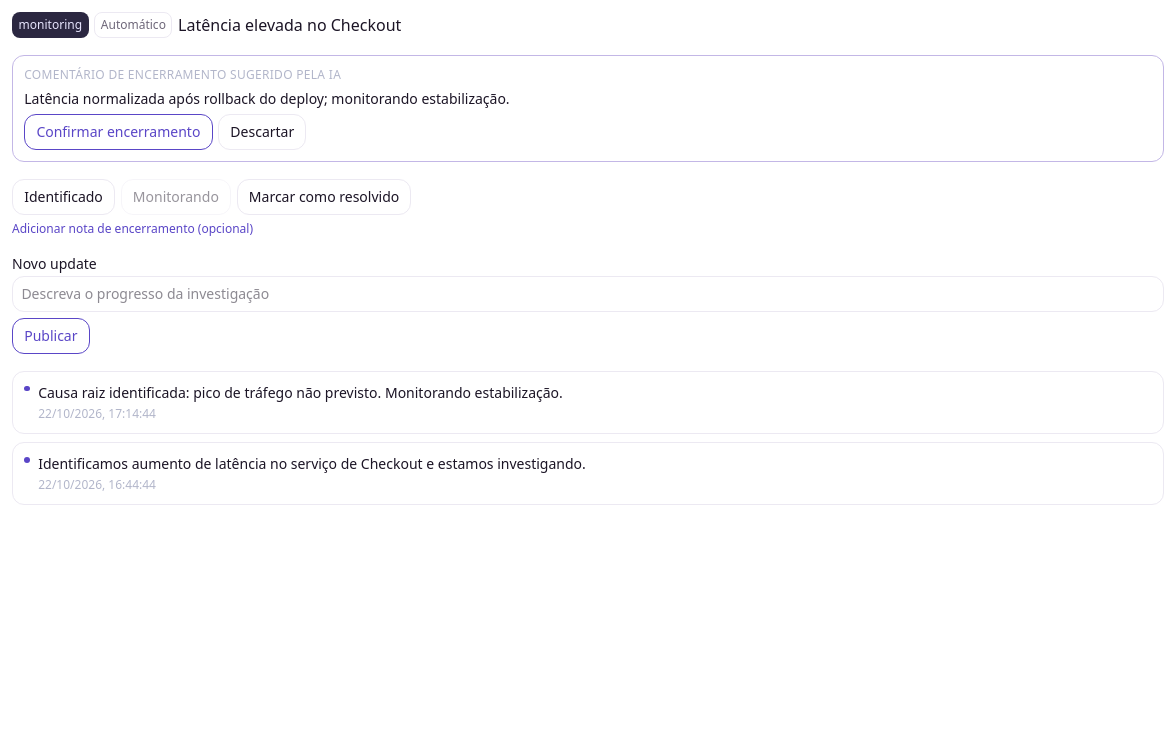
Test: IncidentDetail › resolving with an optional closing note publishes it on the timeline
This screenshot has width=1176, height=732.
Expected: the text "Identificamos aumento de latência" is shown, [38,454,586,474]
Click the button "Adicionar nota de encerramento (opcional)": (132, 229) [12,221,253,237]
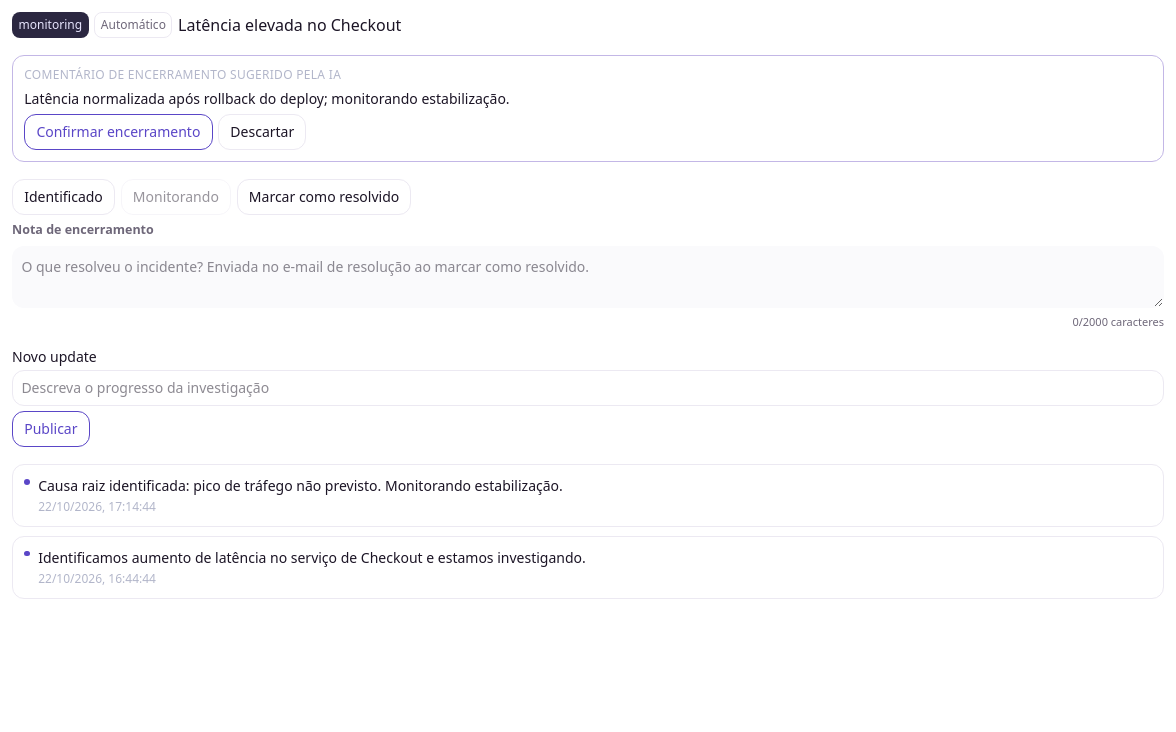
In the text box labelled "Nota de encerramento": (588, 276) [12,246,1164,308], type "Rollback concluído, latência normal"
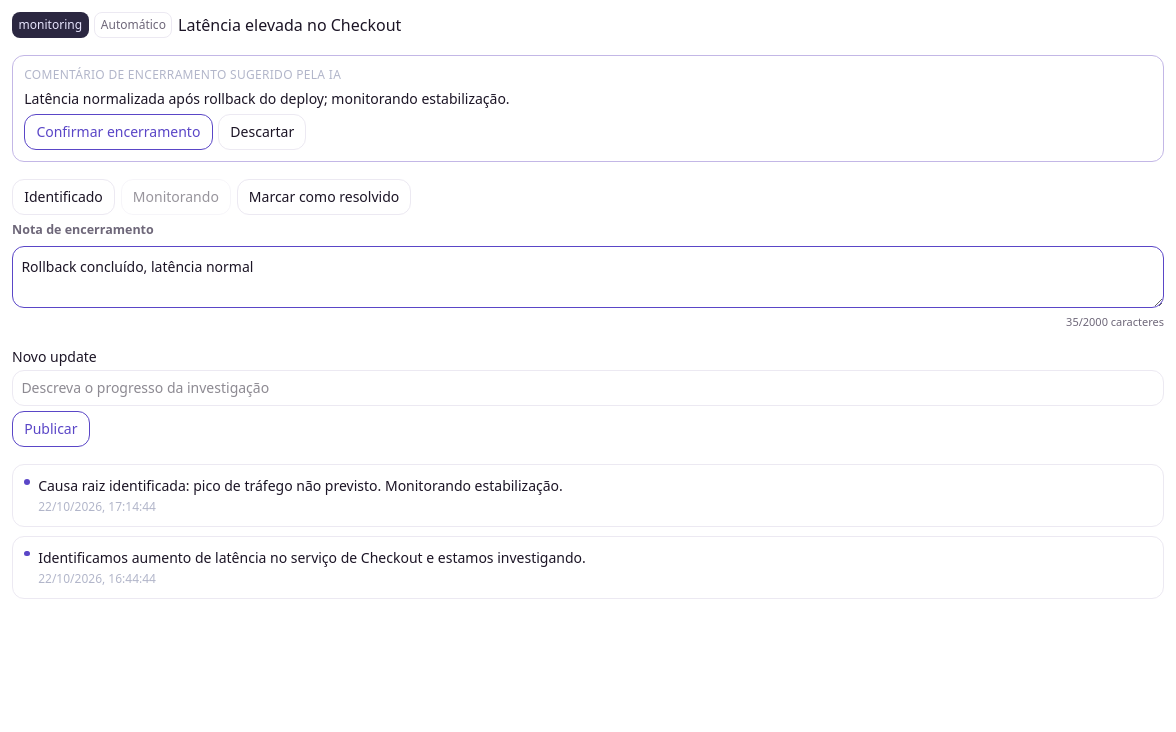
Click the button "Marcar como resolvido": (324, 197) [237,179,411,215]
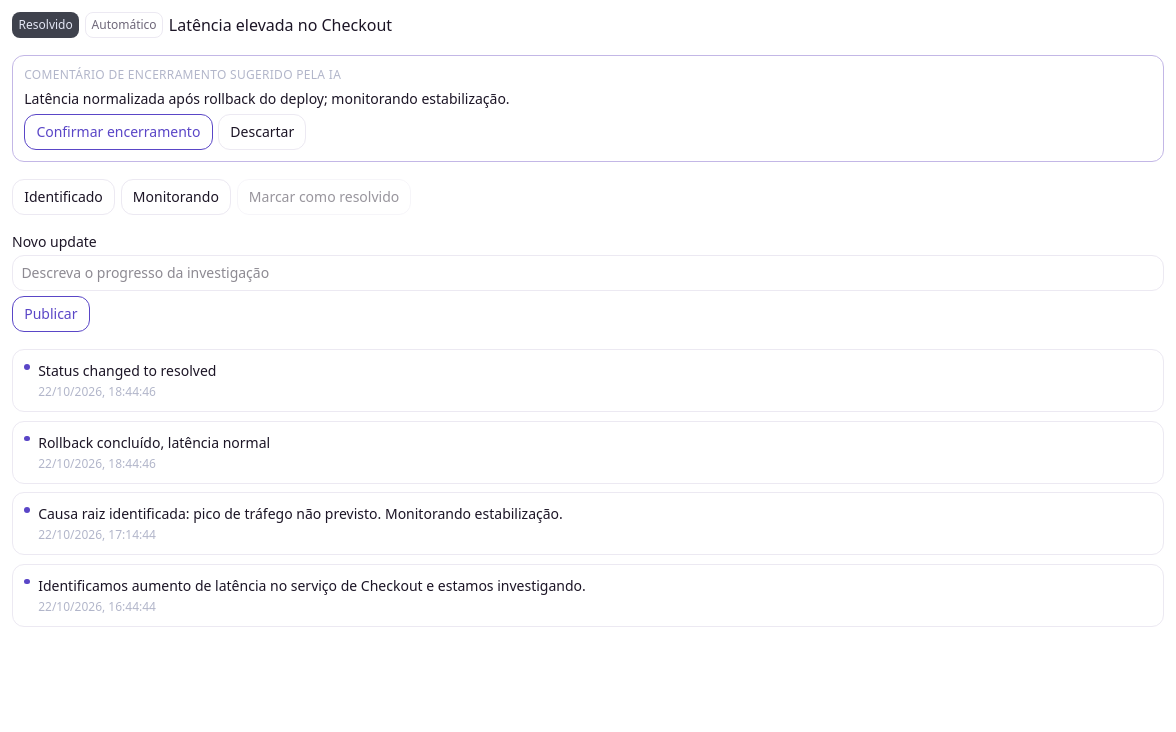
Expected: the text "Resolvido" is shown, [12,12,79,38]
Expected: the text "Rollback concluído, latência normal" is shown, [38,433,270,453]
